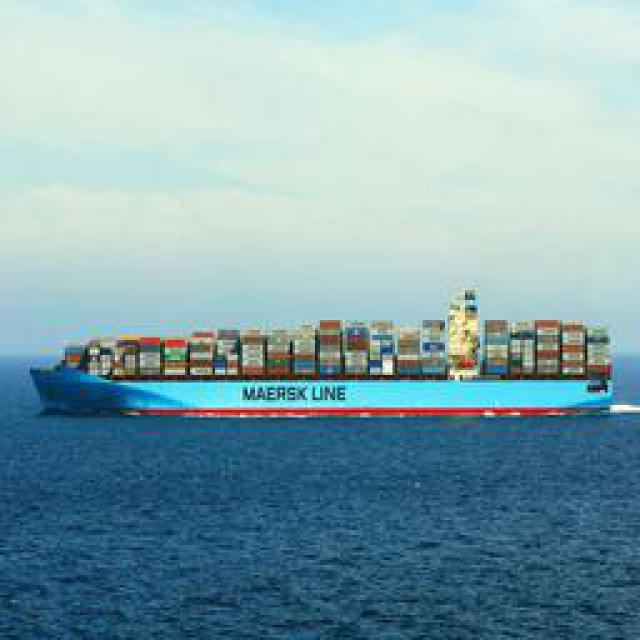Ship: (31, 306, 614, 419)
